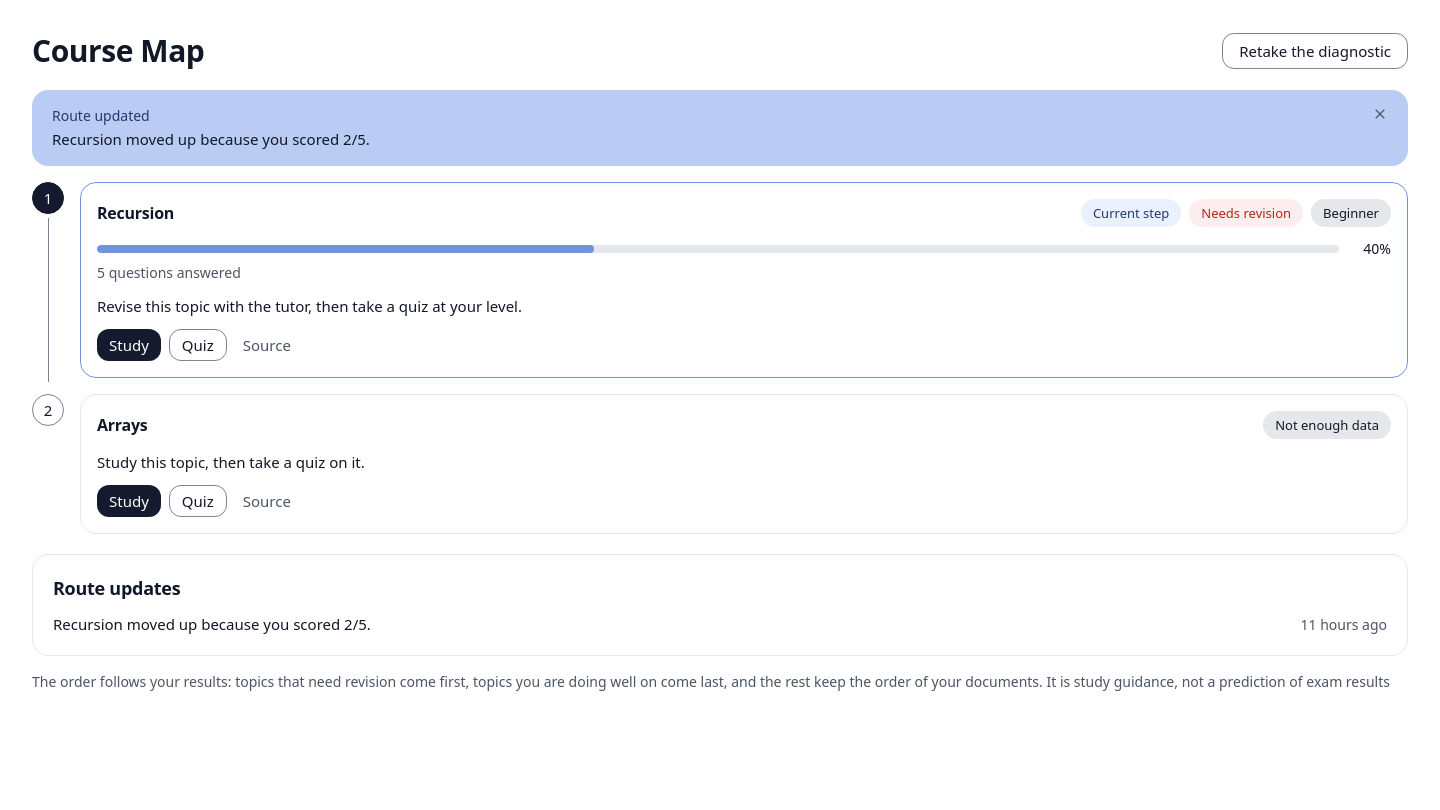
CourseMapView › gives each step Study, Quiz and Source
Click the button "Source" below "questions answered" at x=267, y=345, box [235, 329, 299, 361]
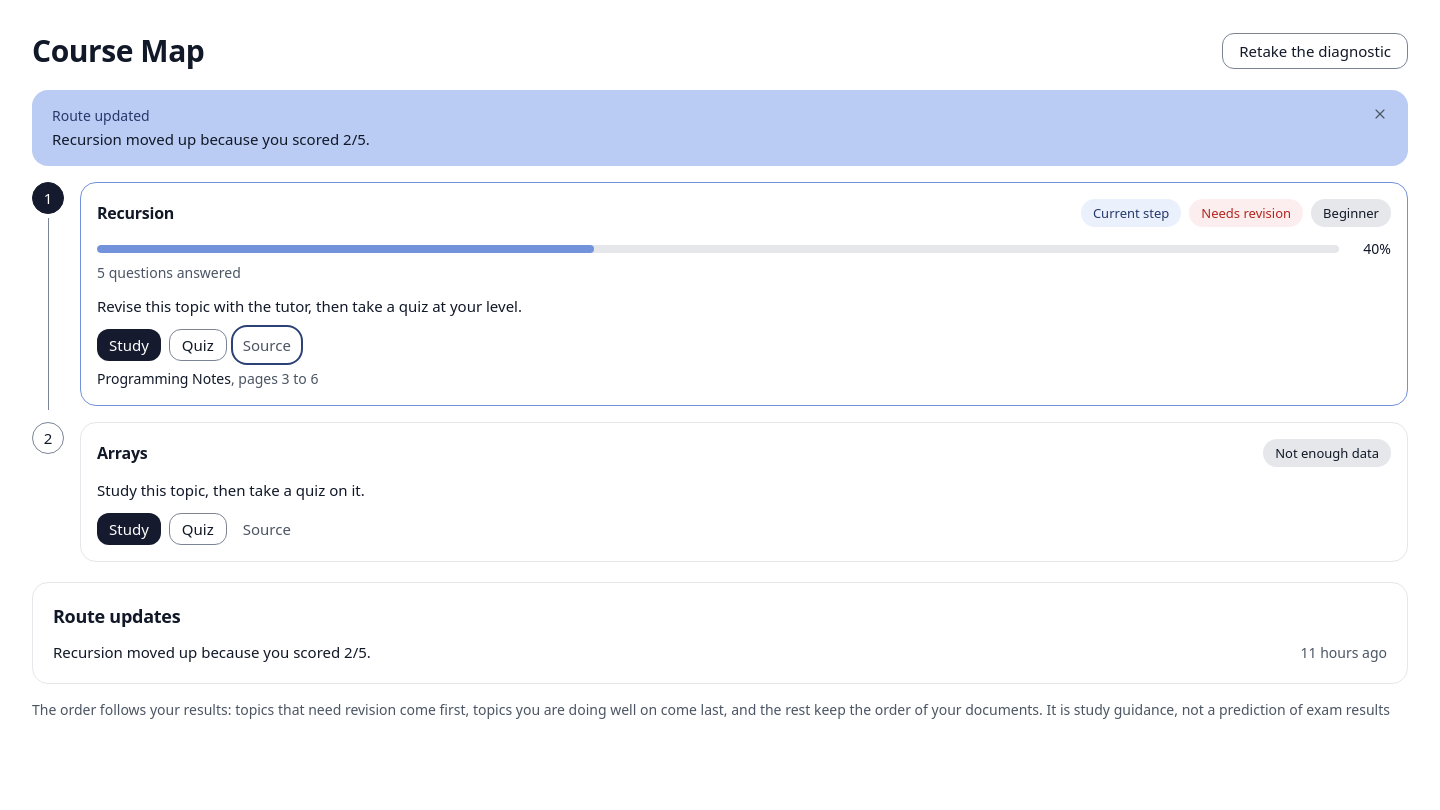
Check: the text "Programming Notes" is shown, box [97, 369, 231, 388]
Check: the list item "Programming Notes, pages 3 to 6" is shown, box [97, 369, 318, 388]
